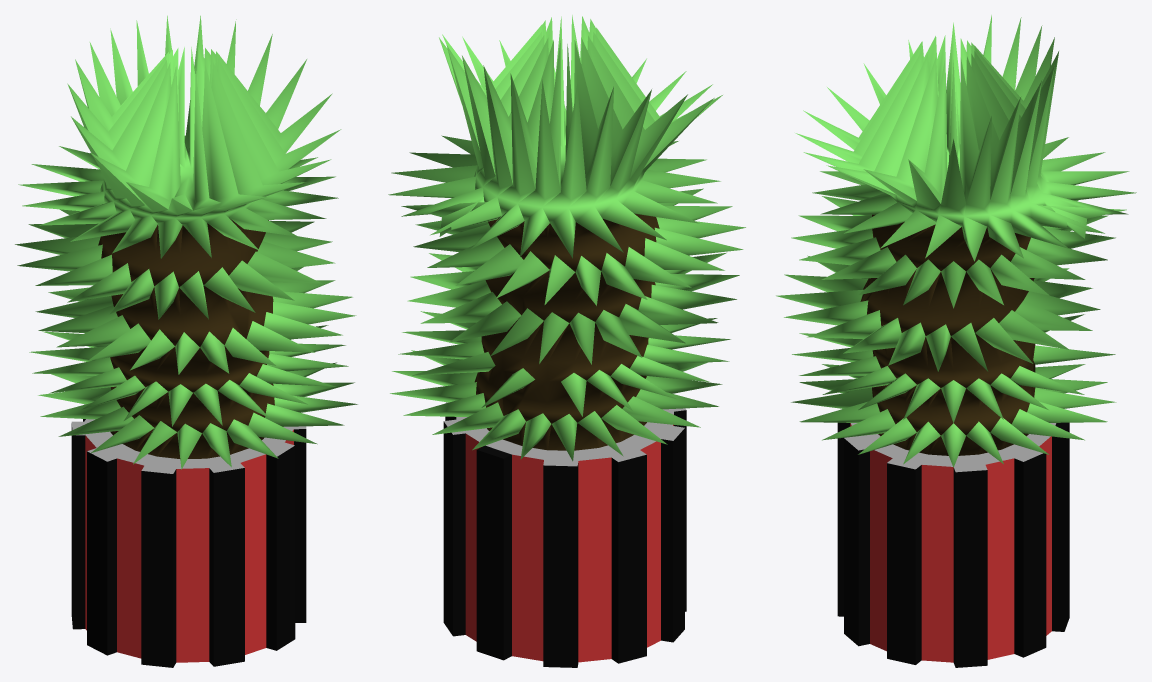
The model's file is PottedPlant1.fbx.
3 renders of one model, left to right at view 1: azimuth 30°, elevation 25°; view 2: azimuth 150°, elevation 25°; view 3: azimuth 270°, elevation 25°, orthographic. The views are drawn at different scales.
Parts seen in each view (by area): view 1: pCylinder2; view 2: pCylinder2; view 3: pCylinder2.
Part boxes in pixels (<box>): pCylinder2: <box>15,15,357,667</box>; pCylinder2: <box>388,15,745,667</box>; pCylinder2: <box>776,15,1136,667</box>.
Bounding box in the file's own units: 4.33 × 7.73 × 4.44.
